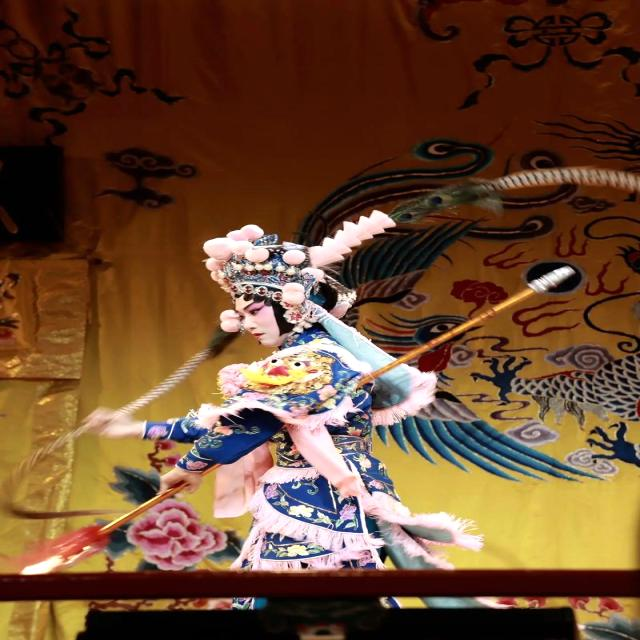Reeves-s Pheasant: (391, 167, 639, 222), (117, 325, 234, 415), (21, 425, 89, 470)
